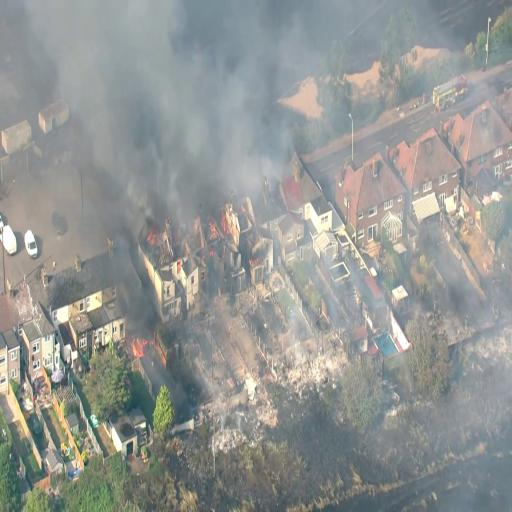fire: (126, 328, 157, 360)
smoke: (132, 30, 256, 182), (79, 28, 167, 196)
